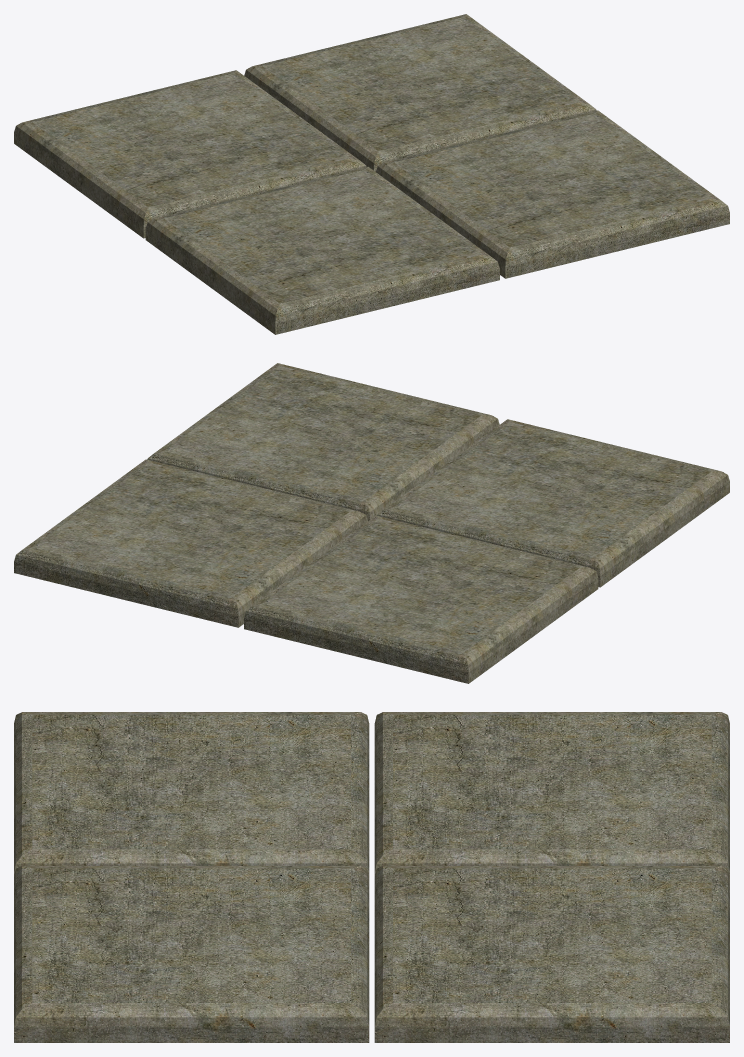
Rendered from StoneTiles1.FBX.
3 views of the same model, one above another, from view 1: azimuth 30°, elevation 25°; view 2: azimuth 150°, elevation 25°; view 3: azimuth 270°, elevation 25° (orthographic). The views are drawn at different scales.
Parts seen in each view (by area): view 1: Box005; view 2: Box005; view 3: Box005.
Part boxes in pixels (bbox=[...]): Box005: bbox=[14, 14, 729, 334]; Box005: bbox=[14, 363, 729, 683]; Box005: bbox=[14, 712, 729, 1042].
Bounding box in the file's own units: 27.66 × 1.37 × 27.53.
